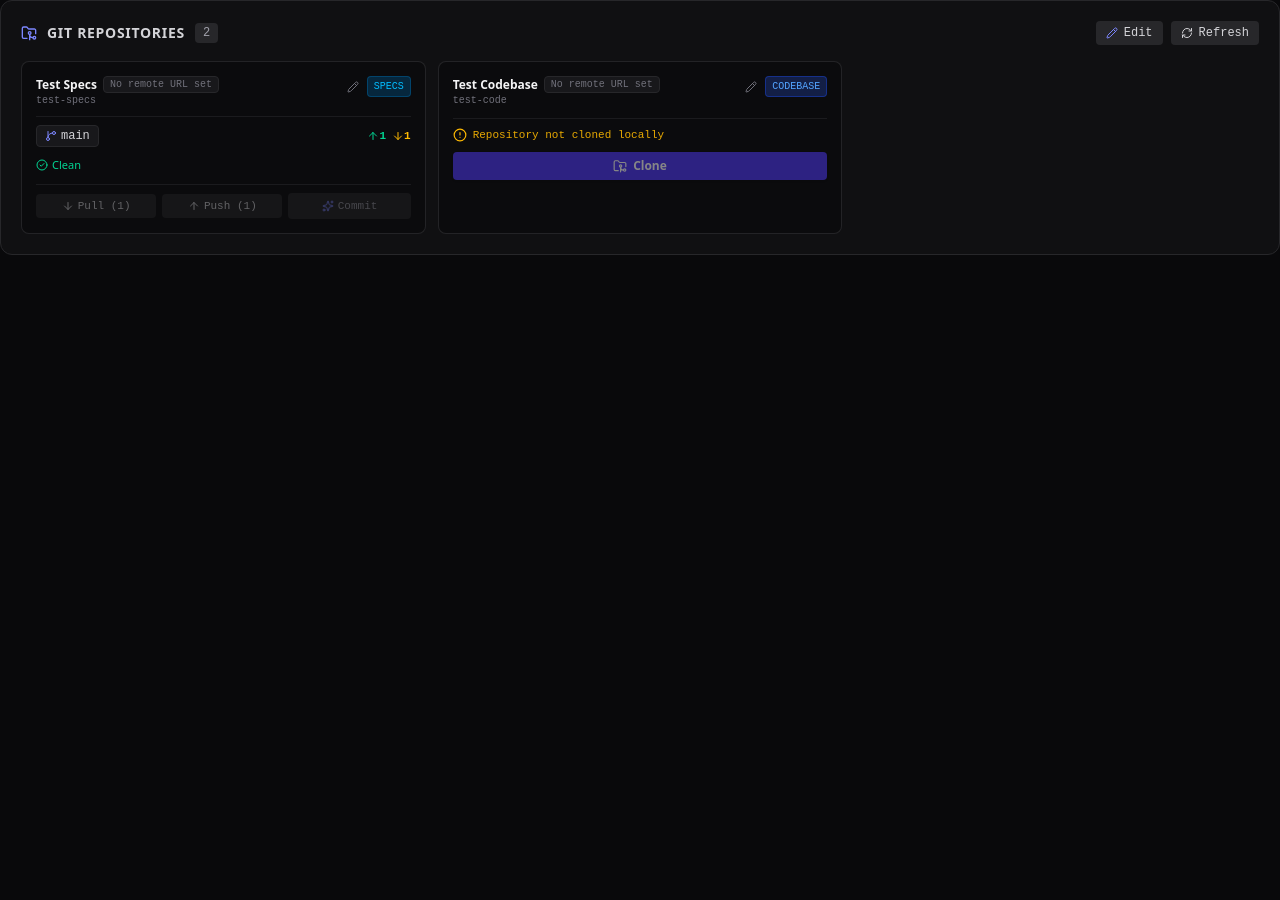
GitRepositoriesCard › reflects missing remote URL with "No remote URL set" badge, disables remote actions, and opens ProjectConfigModal to edit .aico-project.json
expect the text with test id "git-no-url-test-specs" reads "No remote URL set": met, box [110,79,212,90]
expect the text with test id "git-no-url-test-code" reads "No remote URL set": met, box [551,79,653,90]
# Click Edit button on GitRepositoriesCard header to open ProjectConfigModal in edit mode
Click the button with test id "edit-project-manifest-btn".
click(1129, 33)  # box [1096,21,1163,45]
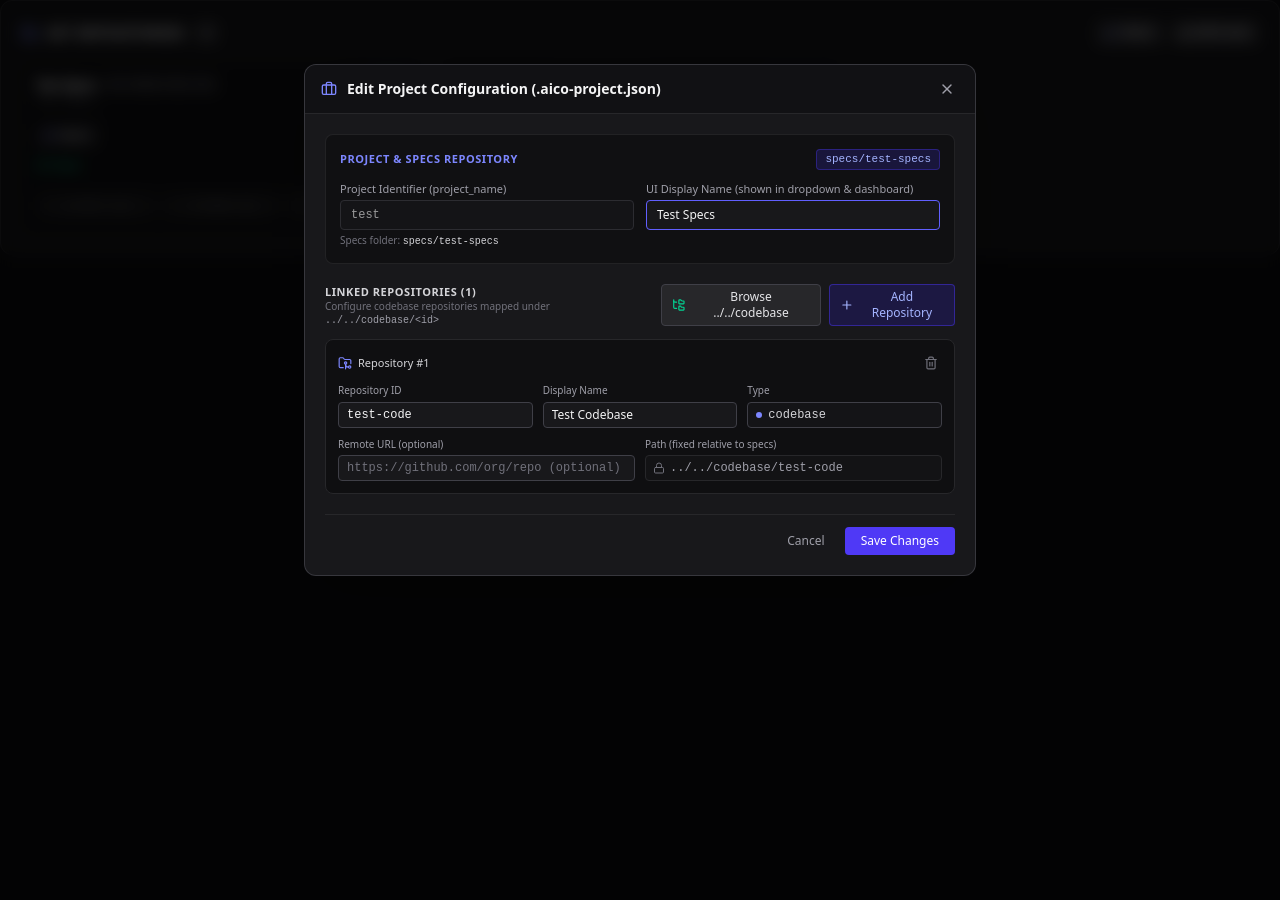
expect the dialog with test id "project-config-modal" is shown: met
expect the field with test id "input-project-display-name" holds "Test Specs": met, box [646,200,940,230]
